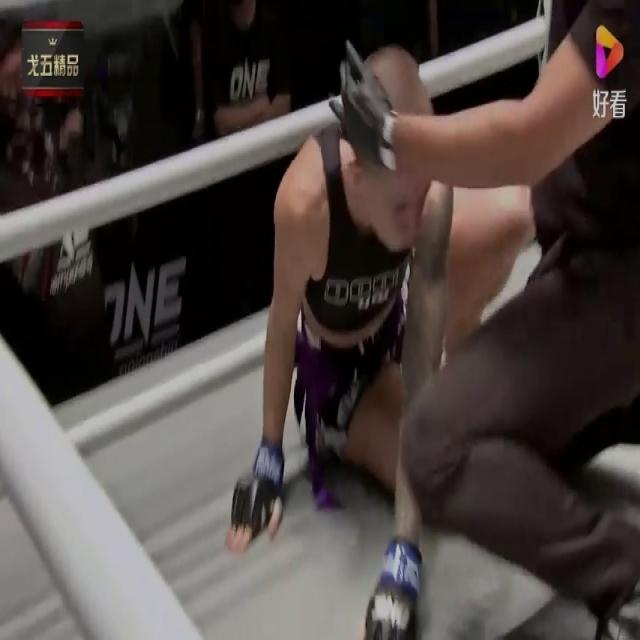fight: (231, 9, 639, 639)
